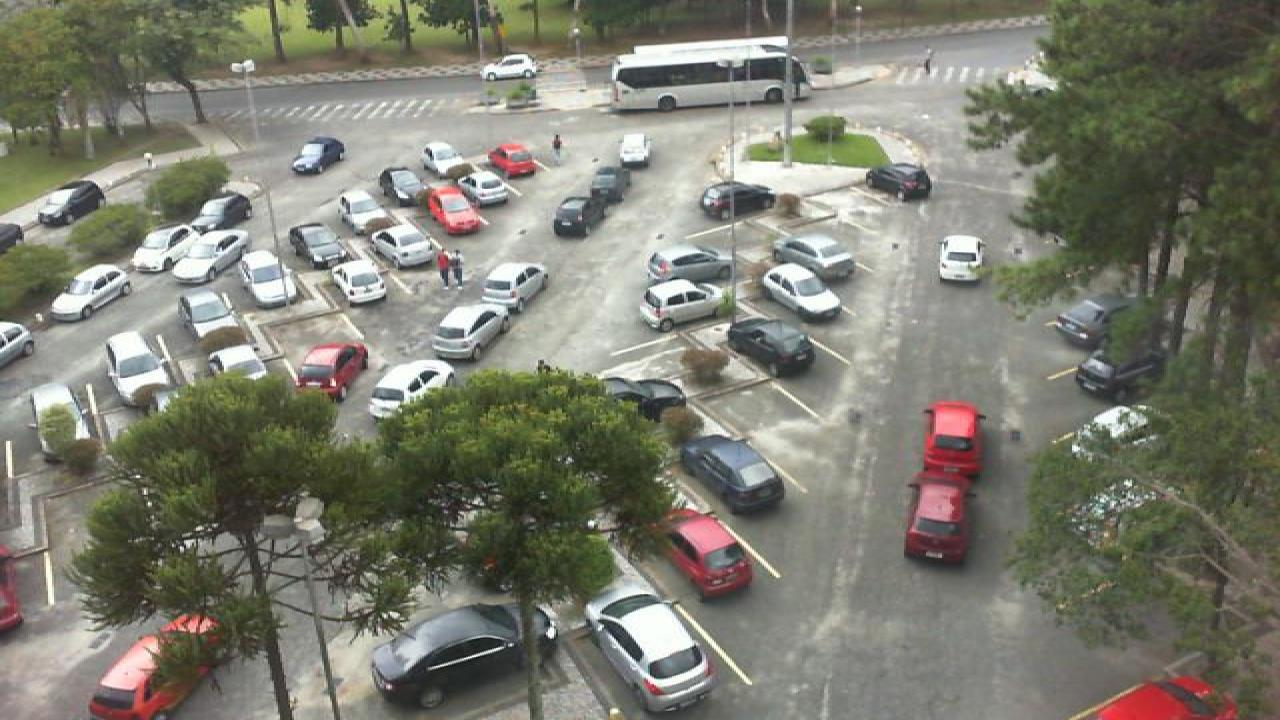Car: (368, 603, 558, 711), (578, 581, 718, 712), (88, 612, 226, 720), (652, 509, 754, 600), (682, 434, 786, 516), (1068, 674, 1240, 720), (904, 474, 978, 564), (102, 331, 180, 414), (722, 318, 816, 380), (1072, 344, 1168, 404), (366, 361, 456, 422), (758, 262, 844, 323), (428, 300, 514, 360), (178, 288, 250, 359), (46, 263, 134, 321), (168, 226, 252, 285), (638, 278, 730, 331), (922, 401, 986, 477), (294, 341, 368, 403), (28, 382, 90, 453), (602, 376, 686, 424), (774, 233, 856, 281), (130, 223, 206, 273), (644, 243, 732, 286), (478, 261, 552, 312), (1046, 297, 1118, 349), (238, 248, 296, 310), (422, 183, 490, 234), (34, 179, 106, 227), (338, 189, 402, 241), (326, 253, 388, 305), (286, 221, 348, 271), (700, 180, 776, 219), (190, 192, 252, 238), (372, 165, 430, 214), (368, 224, 434, 266), (938, 233, 990, 286), (866, 162, 934, 201), (288, 135, 346, 175), (458, 171, 516, 207), (416, 140, 470, 176), (488, 142, 540, 178), (586, 164, 632, 204), (552, 195, 594, 238), (482, 52, 542, 82), (616, 132, 654, 170)
